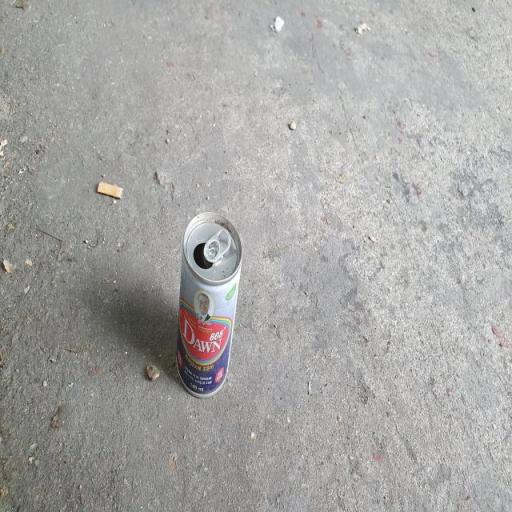metal: (171, 197, 253, 411)
